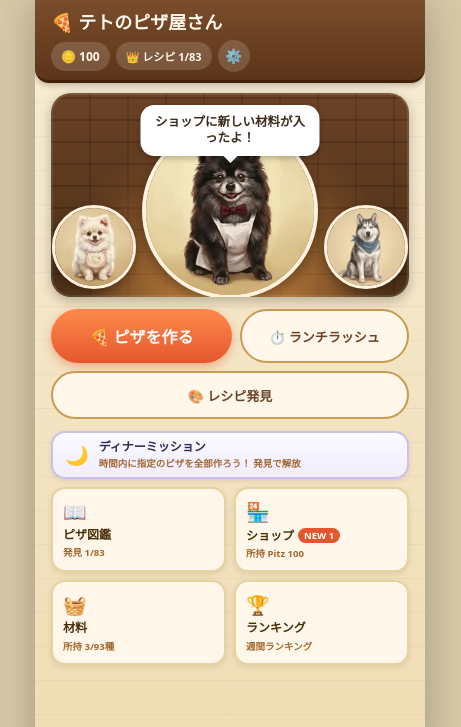
I4b-4 Shop through the real App: NEW -> first pack -> OWNED, persisted › refill after the first pack adds 10 more for 30 Pitz
The width and height of the screenshot is (461, 727).
Click the button "🏪 ショップ NEW 1 所持 Pitz 100" at (322, 530), box left=234, top=487, right=409, bottom=572
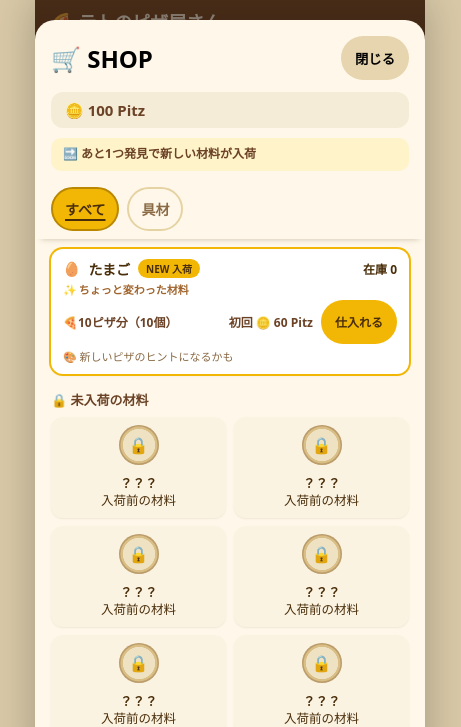
Click the button "仕入れる" at (359, 322), box left=321, top=300, right=397, bottom=344
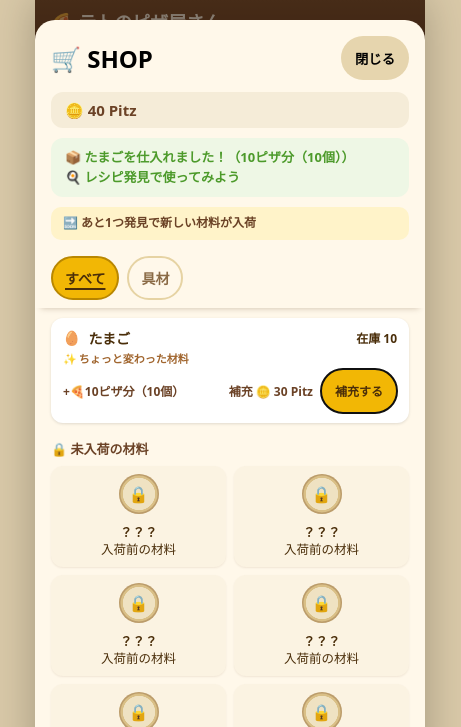
Click the button "補充する" at (359, 391), box left=321, top=369, right=397, bottom=413
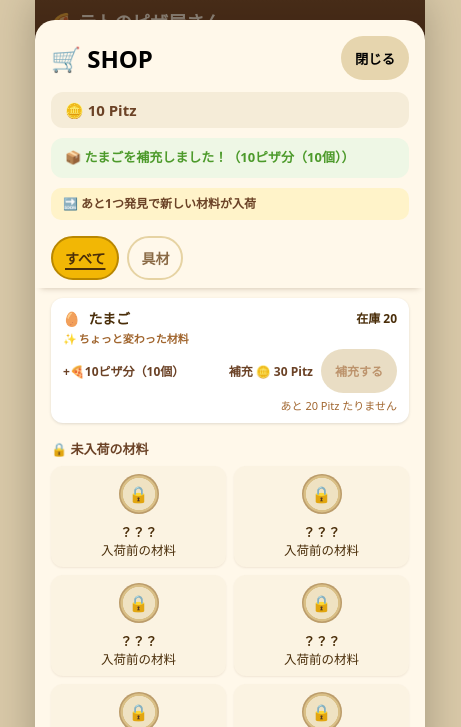
Now the text "在庫 20" is shown, box left=356, top=309, right=397, bottom=327
Now the text "📦 たまごを補充しました！（10ピザ分（10個））" is shown, box left=51, top=138, right=409, bottom=178
